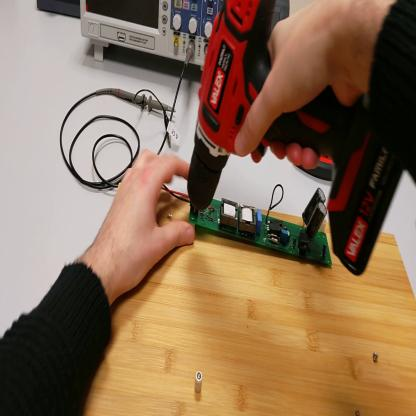electric screwdriver: (189, 1, 410, 278)
hand: (235, 2, 378, 168), (100, 148, 197, 294)
high voltage board: (164, 183, 334, 271)
oscilloscope: (80, 1, 223, 75)
oscilloscope probe tip: (119, 87, 176, 116)
socket: (38, 1, 80, 21)
working area: (86, 190, 416, 414)
